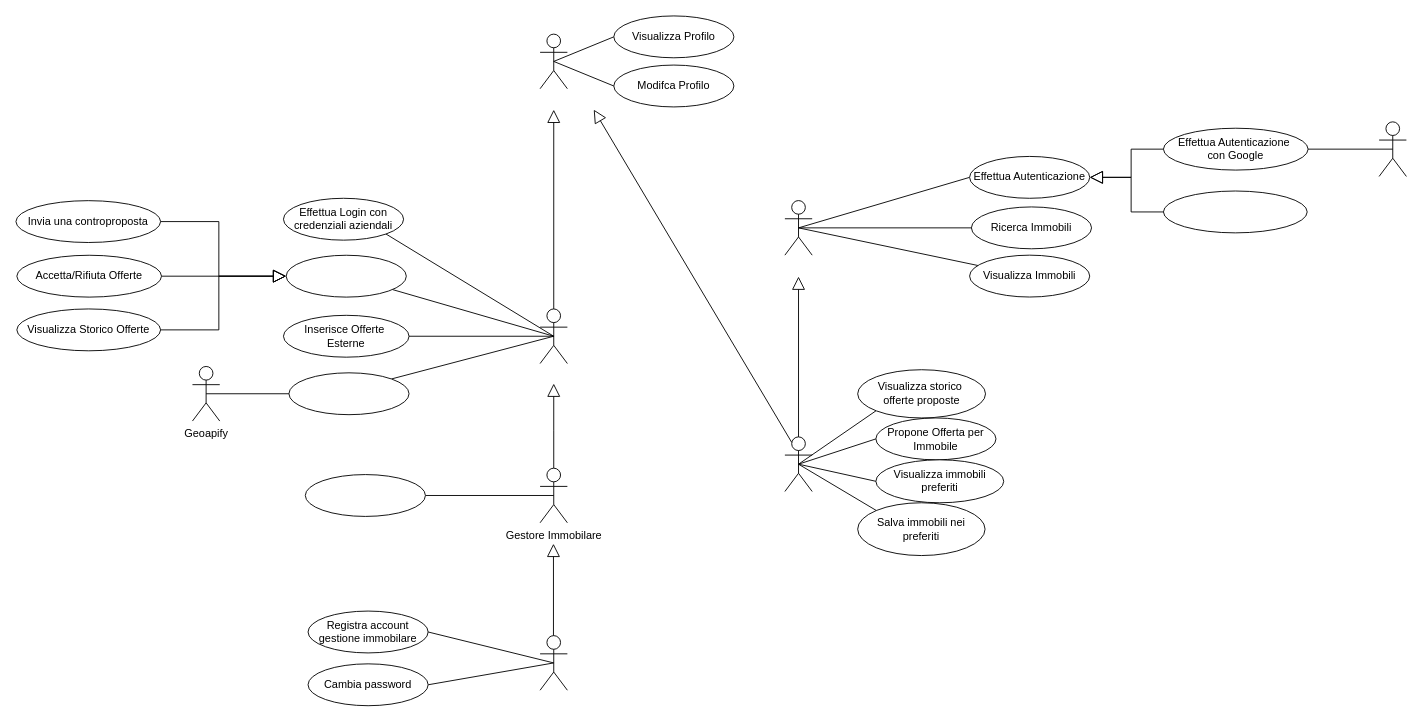
Some shapes in this 1426 by 725 pixel diagram are drawn without their labels. The centre of each missing label's shape, as x and y in pixels:
"Agente Immobilare" goes at [553,336].
"Aggiunge Inserzione Immobile" goes at [348,393].
"Amministratore" goes at [553,662].
"Effettua Autenticazione con credenziali" goes at [1235,211].
"Gestisce Offerte" goes at [345,275].
"Google" goes at [1392,148].
"Registra account agente immobilare" goes at [364,495].
"Utente Non Registrato" goes at [798,227].
"Utente Online" goes at [798,463].
"Utente Registrato" goes at [553,61].
